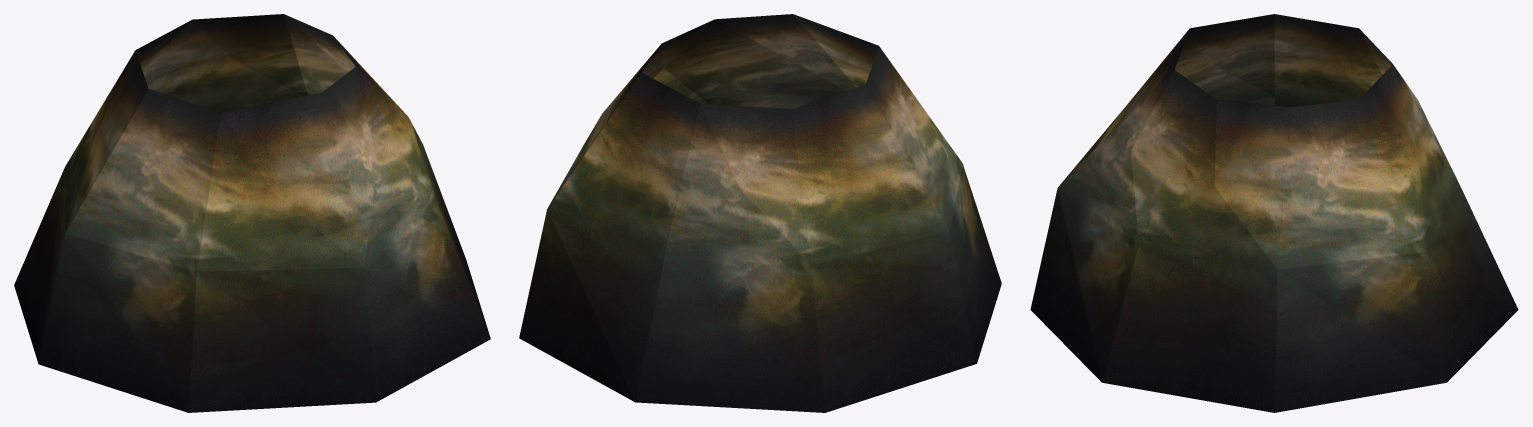
File: sky.obj
3 renders of one model, left to right at view 1: azimuth 30°, elevation 25°; view 2: azimuth 150°, elevation 25°; view 3: azimuth 270°, elevation 25°, orthographic. The views are drawn at different scales.
Parts seen in each view (by area): view 1: sky_mod4; view 2: sky_mod4; view 3: sky_mod4.
Part boxes in pixels (x1,y1,x2,y2): sky_mod4: [14, 14, 490, 412]; sky_mod4: [519, 14, 1001, 412]; sky_mod4: [1030, 14, 1518, 412].
Size of the model in its own units: 7200 by 4050 by 7200.
